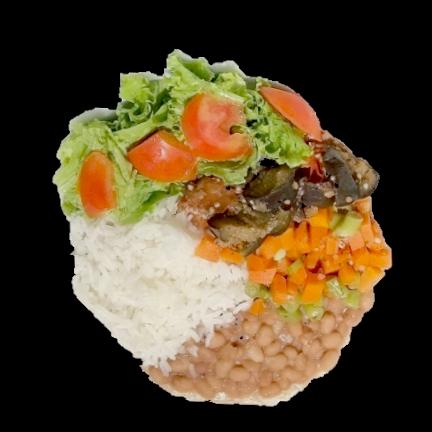beans: (146, 292, 374, 403)
carrot: (206, 207, 397, 303)
rice: (71, 198, 248, 360)
salad: (57, 48, 304, 226)
tomato: (126, 93, 252, 183), (261, 86, 324, 141), (80, 152, 118, 217)
